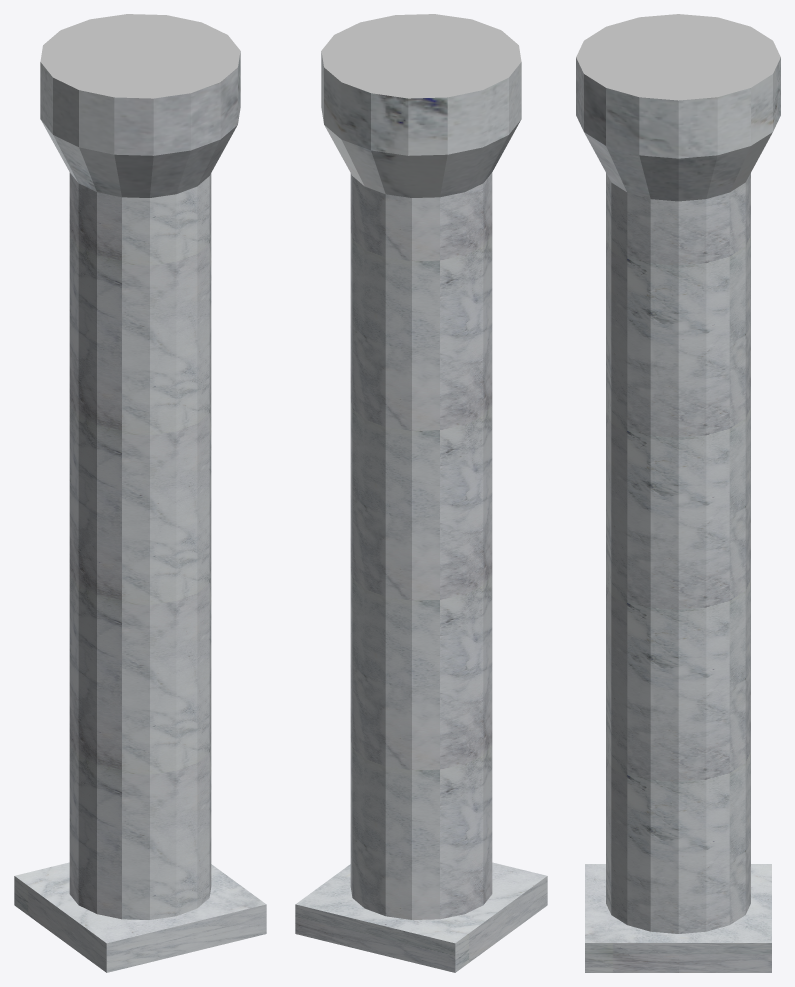
The model's file is LobbyPillar4.obj.
3 views of the same model, side by side, from view 1: azimuth 30°, elevation 25°; view 2: azimuth 150°, elevation 25°; view 3: azimuth 270°, elevation 25° (orthographic).
Parts seen in each view (by area): view 1: Circle.020; view 2: Circle.020; view 3: Circle.020.
Part boxes in pixels (x1=…): Circle.020: x1=14, y1=14, x2=266, y2=972; Circle.020: x1=295, y1=14, x2=547, y2=972; Circle.020: x1=576, y1=14, x2=780, y2=972.
Size of the model in its own units: 10.75 by 50.76 by 10.75.
2 materials, 1 textured.
